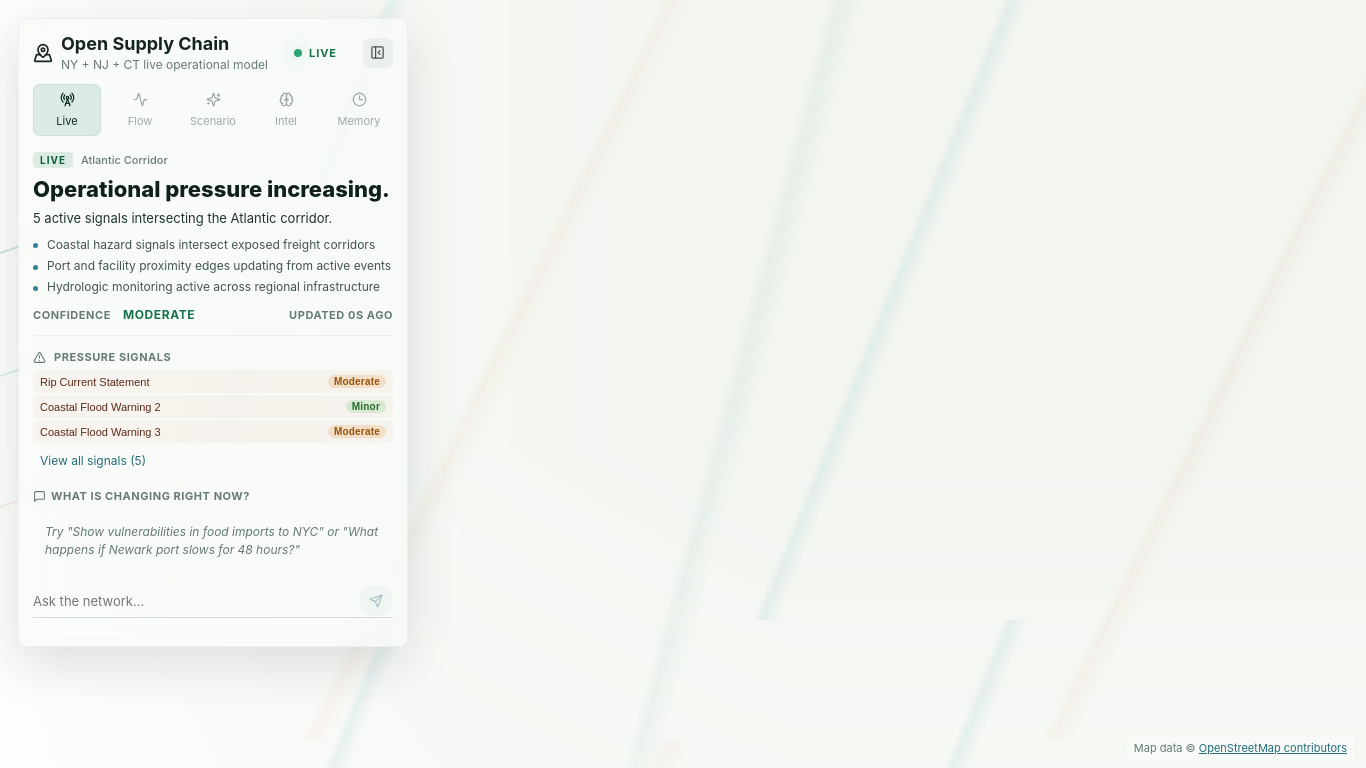
Test: App › reveals all pressure signals on demand
Expected: the text "Rip Current Statement" is shown, x1=40 y1=376 x2=149 y2=388
Expected: the text "Coastal Flood Warning 5" is not shown
Click the button "View all signals (5)": [93, 460] box x1=33 y1=445 x2=393 y2=475
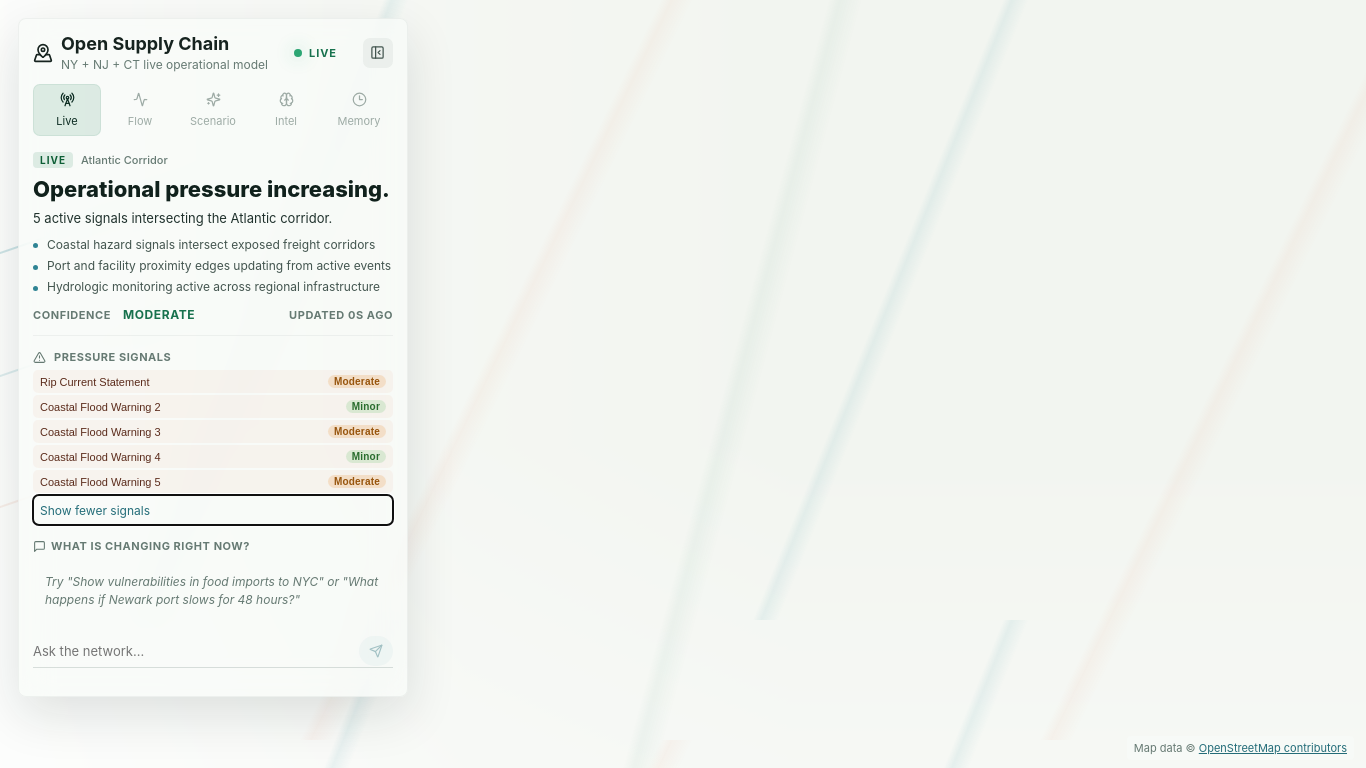
Expected: the text "Coastal Flood Warning 5" is shown, x1=40 y1=476 x2=161 y2=488
Expected: the button "Show fewer signals" is shown, x1=33 y1=495 x2=393 y2=525
